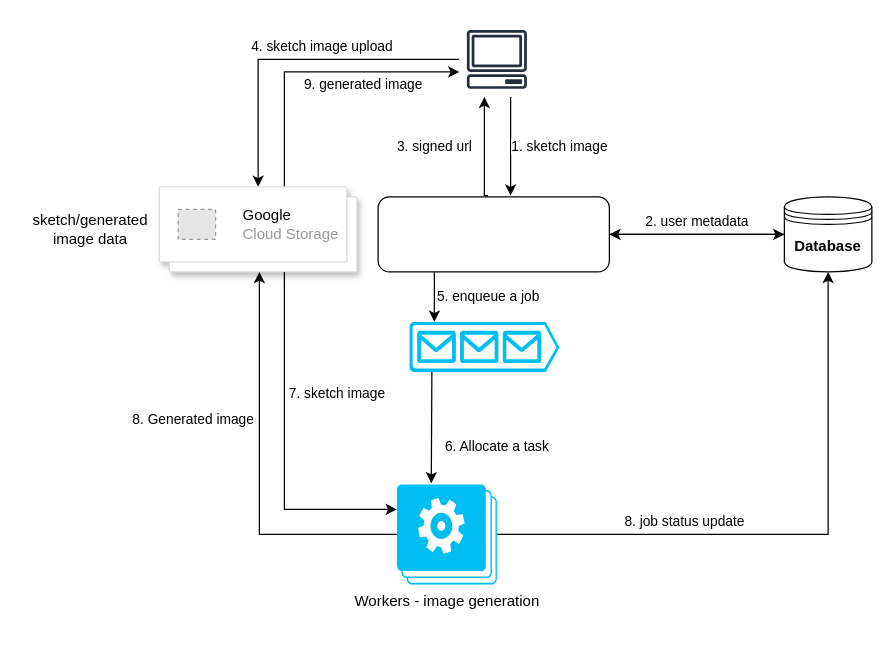
Image size: 894x651. Some labels were removed from this diagram. Grey dashed boxes stand in for pictures. The shapes that lost their labels are listed below. From the top down, each one's centre as x and y in pixels, then its label:
At pixel 493 234: "Rest API (Flask)".
At pixel 484 346: "Redis(Queue)".
